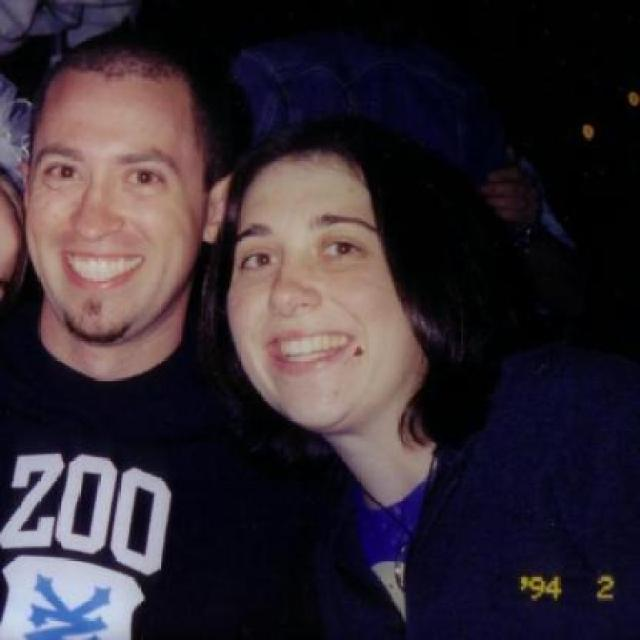awake: (319, 234, 363, 260), (124, 165, 164, 190), (238, 248, 278, 272), (43, 161, 82, 185)
